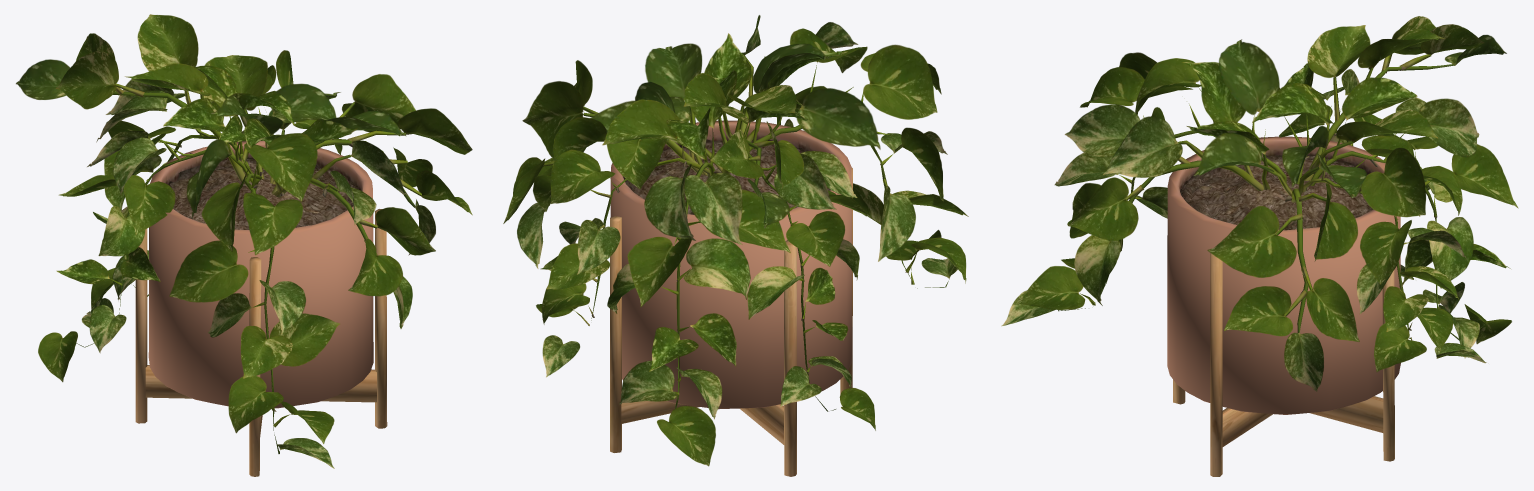
Rendered from free_pothos_potted_plant_money_plant.glb.
The picture shows the model from 3 angles, left to right: view 1: azimuth 30°, elevation 25°; view 2: azimuth 150°, elevation 25°; view 3: azimuth 270°, elevation 25°; orthographic projection. The views are drawn at different scales.
Visible parts, largest first — view 1: POTHOS, POT_WOOD_LEGS; view 2: POTHOS, POT_WOOD_LEGS; view 3: POTHOS, POT_WOOD_LEGS.
Part boxes in pixels (left/top/right/bottom): POTHOS: left=16, top=14, right=472, bottom=468; POT_WOOD_LEGS: left=135, top=141, right=387, bottom=476; POTHOS: left=503, top=15, right=968, bottom=466; POT_WOOD_LEGS: left=610, top=120, right=852, bottom=476; POTHOS: left=1001, top=16, right=1518, bottom=391; POT_WOOD_LEGS: left=1167, top=136, right=1400, bottom=476.
Size of the model in its own units: 0.8266 by 0.7908 by 0.9741.
2 materials, 2 textured.
